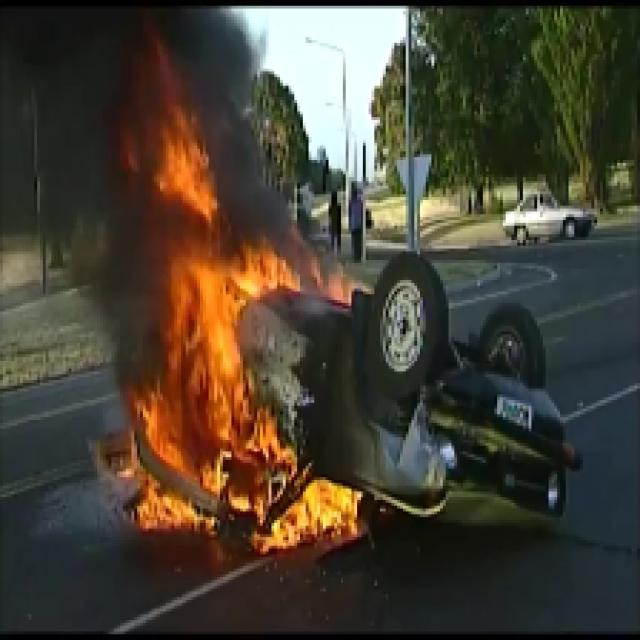fire: (113, 261, 360, 557)
smoke: (17, 10, 275, 245)
